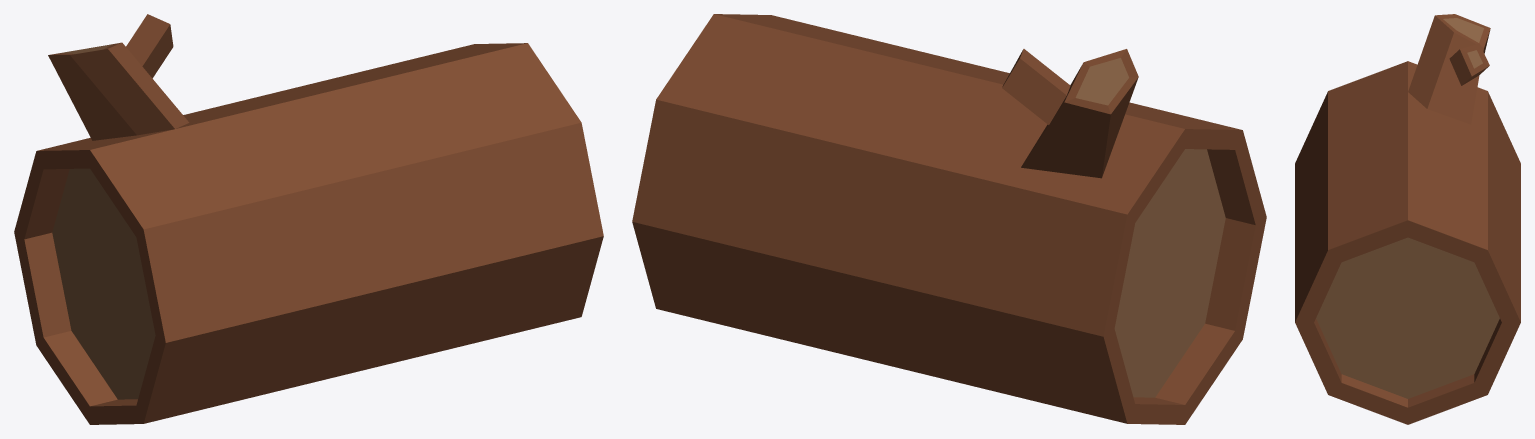
The model's file is LogBig.fbx.
3 views of the same model, side by side, from view 1: azimuth 30°, elevation 25°; view 2: azimuth 150°, elevation 25°; view 3: azimuth 270°, elevation 25° (orthographic). The views are drawn at different scales.
Parts seen in each view (by area): view 1: Cylinder; view 2: Cylinder; view 3: Cylinder.
Part boxes in pixels (x1,y1,x2,y2): Cylinder: [14, 14, 603, 424]; Cylinder: [632, 14, 1266, 424]; Cylinder: [1295, 14, 1520, 424].
Size of the model in its own units: 100 by 77.24 by 60.
